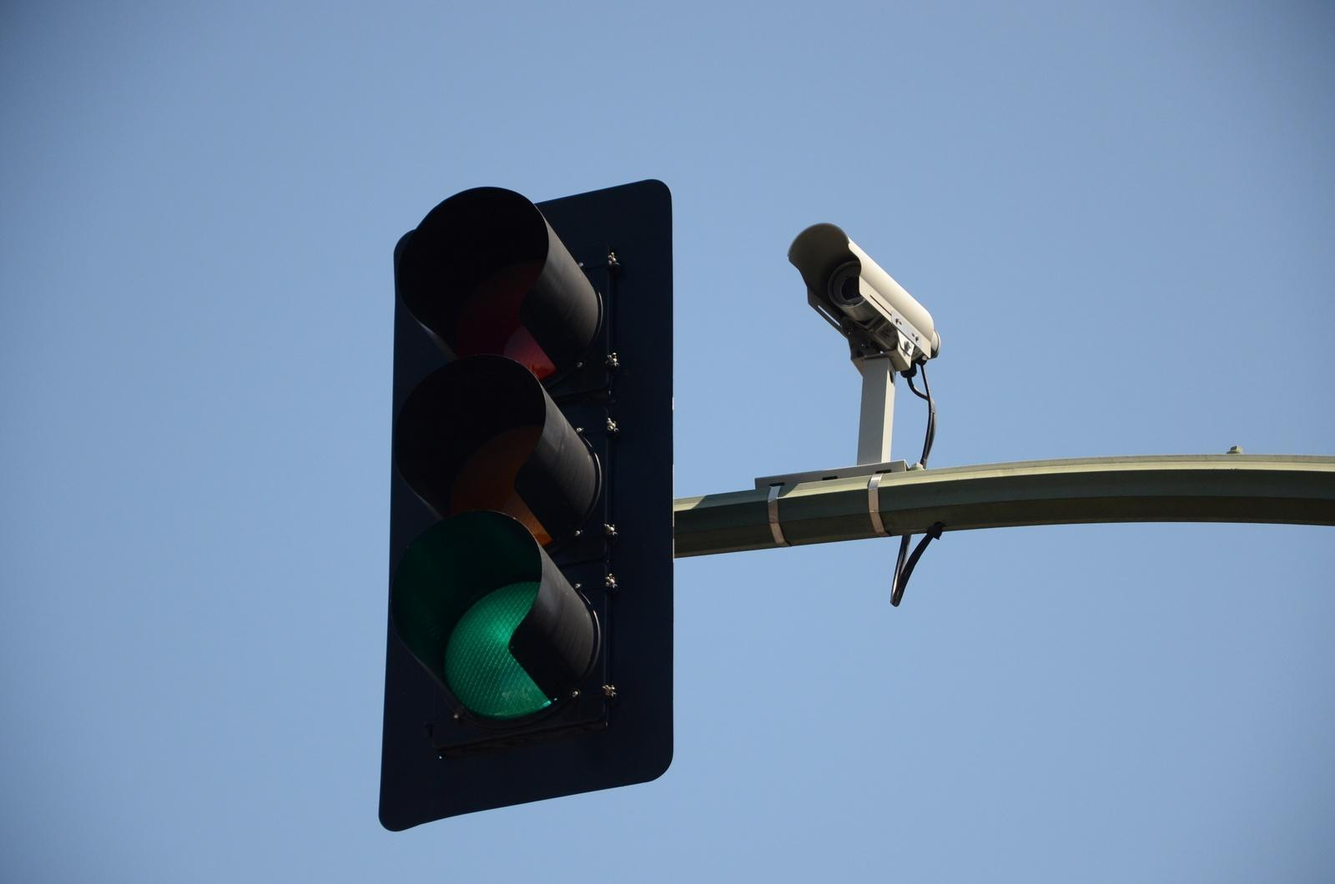Monitor: (785, 218, 942, 378)
